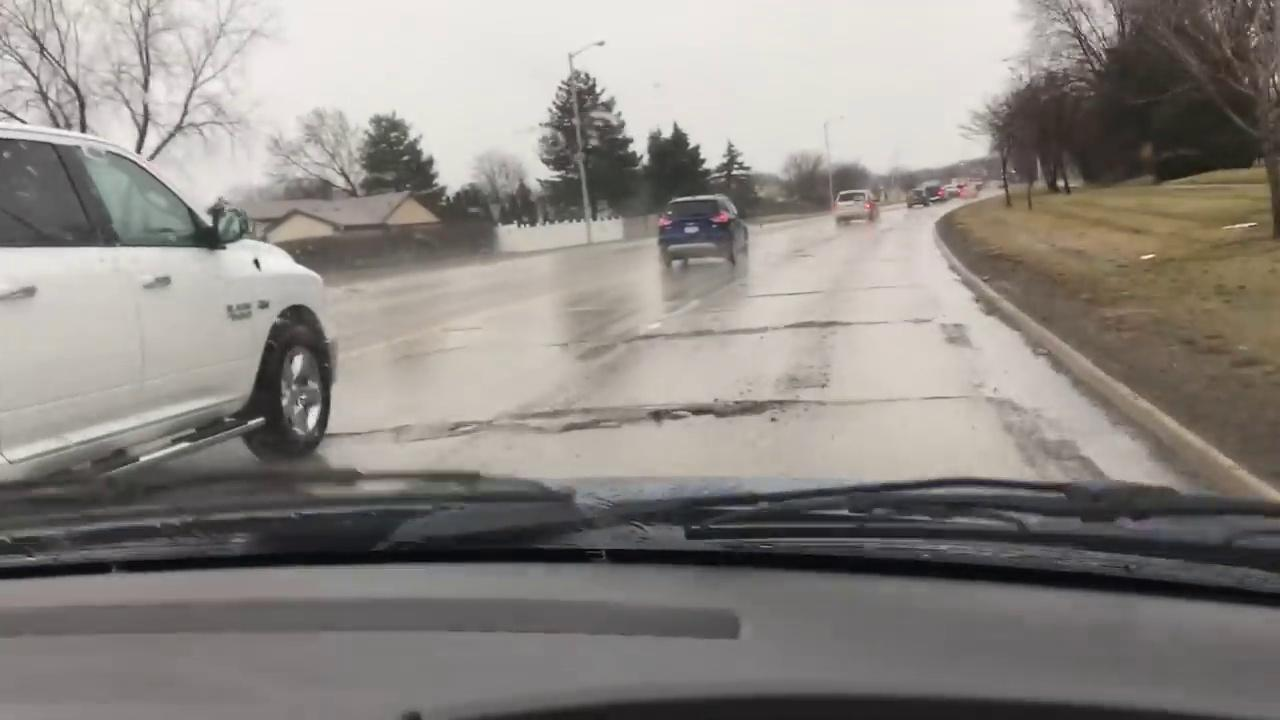pothole: (339, 399, 824, 451), (620, 315, 902, 348)
